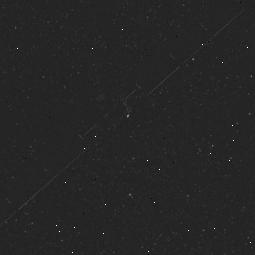smart_1: (48, 50, 184, 150)
